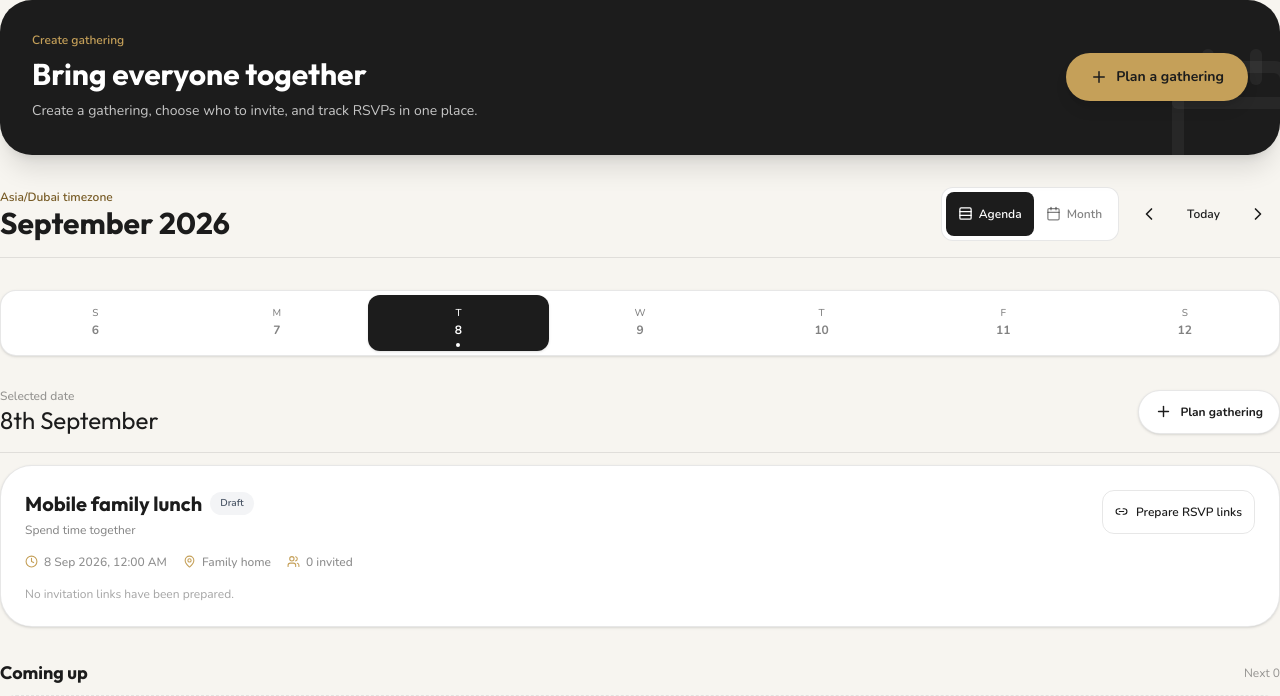
Test case: Calendar responsive views › defaults a phone viewport to Agenda and keeps Month available
Expected: the heading "Mobile family lunch" is shown, [25, 490, 202, 518]
Expected: the button "T 8" is shown, [368, 295, 549, 351]
Step 1. Click the button "S 6" → point(95, 323), box [5, 295, 186, 351]
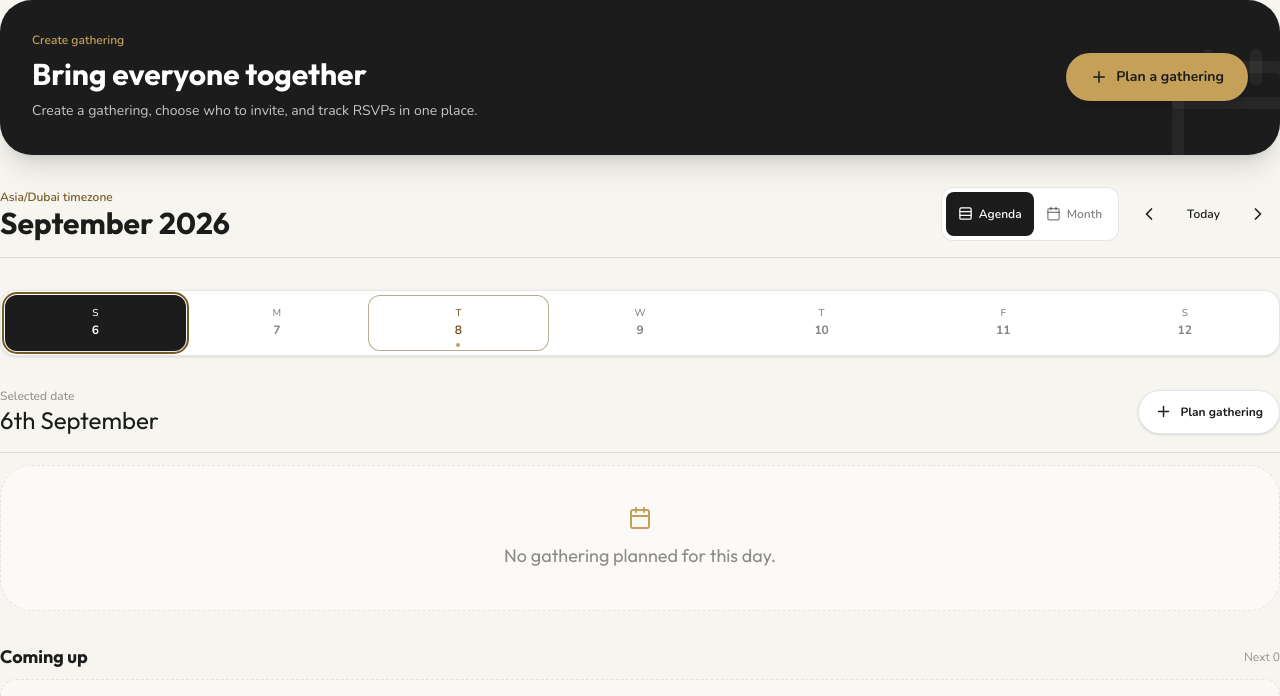
Now the button "S 6" is pressed, box [5, 295, 186, 351]
Now the button "T 8" is not pressed, box [368, 295, 549, 351]
Step 2. Click the button "Month" → point(1074, 214), box [1034, 192, 1114, 236]
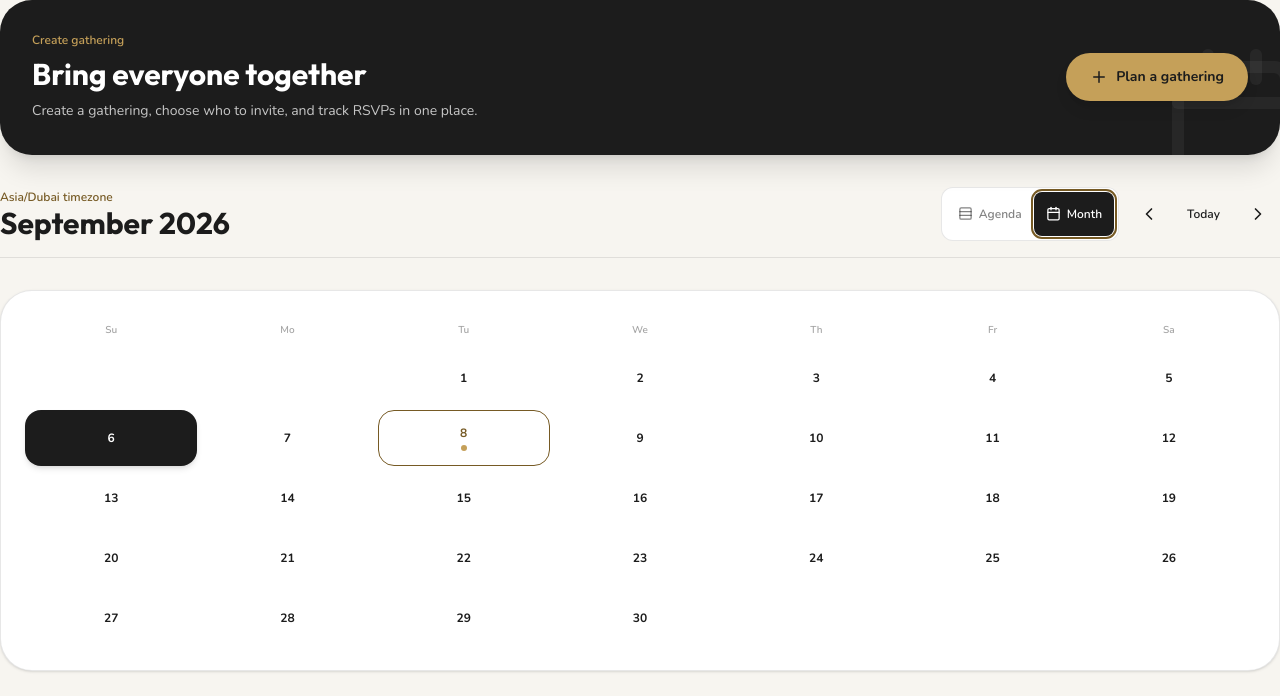
Now the element named "Gathering calendar" is shown, box [0, 290, 1279, 671]
